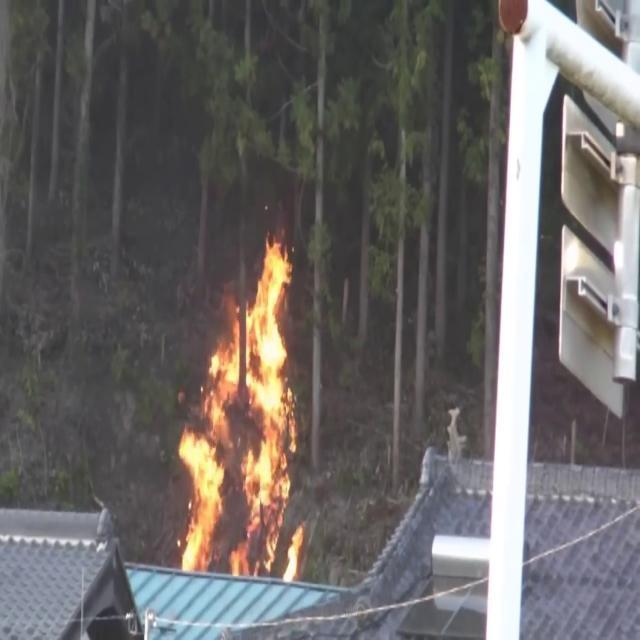Fire: (170, 222, 310, 574)
